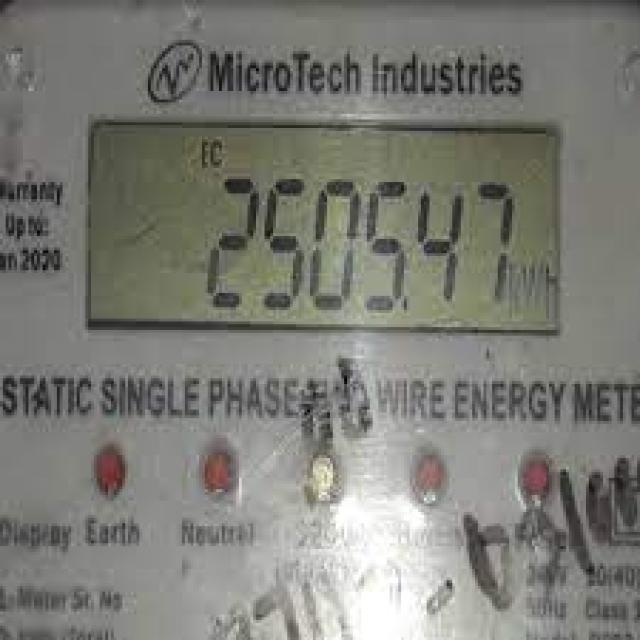.: (399, 294, 417, 316)
0: (310, 168, 356, 318)
2: (203, 169, 259, 313)
4: (417, 166, 469, 316)
5: (253, 176, 308, 309), (359, 171, 409, 315)
7: (469, 170, 522, 312)
Digital meter: (90, 127, 527, 326)
